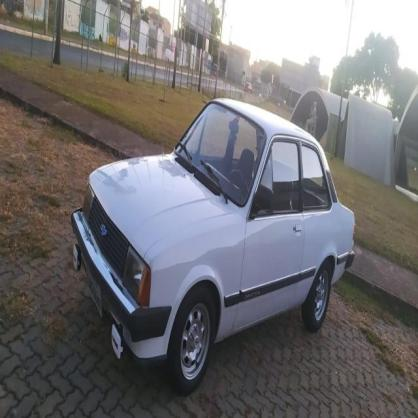car: (64, 93, 357, 390)
